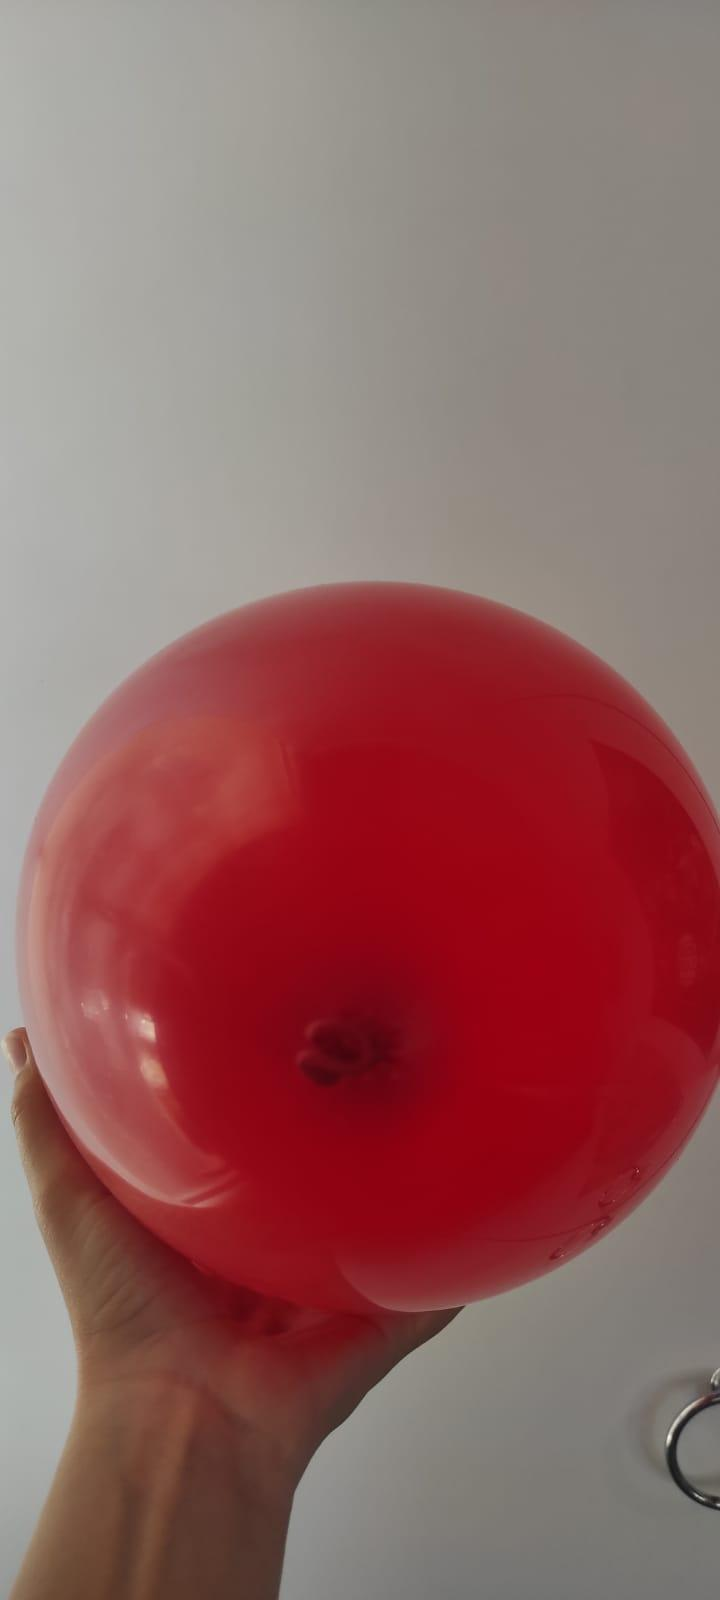red: (21, 571, 720, 1329)
